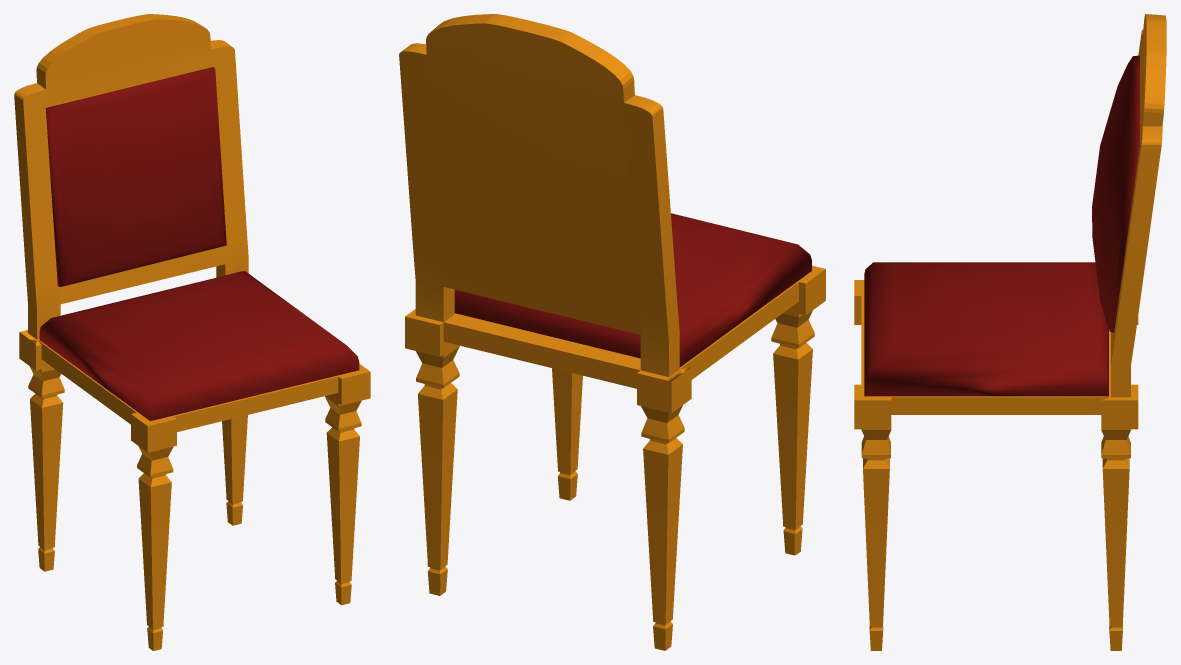
Rendered from M_ChaiseOrRouge.fbx.
3 renders of one model, left to right at view 1: azimuth 30°, elevation 25°; view 2: azimuth 150°, elevation 25°; view 3: azimuth 270°, elevation 25°, orthographic. The views are drawn at different scales.
Visible parts, largest first — view 1: Cube.002; view 2: Cube.002; view 3: Cube.002.
Boxes of the visible parts, <box> form: Cube.002: <box>14,14,370,650</box>; Cube.002: <box>399,14,825,650</box>; Cube.002: <box>854,14,1166,650</box>.
Size of the model in its own units: 316 by 691 by 347.
